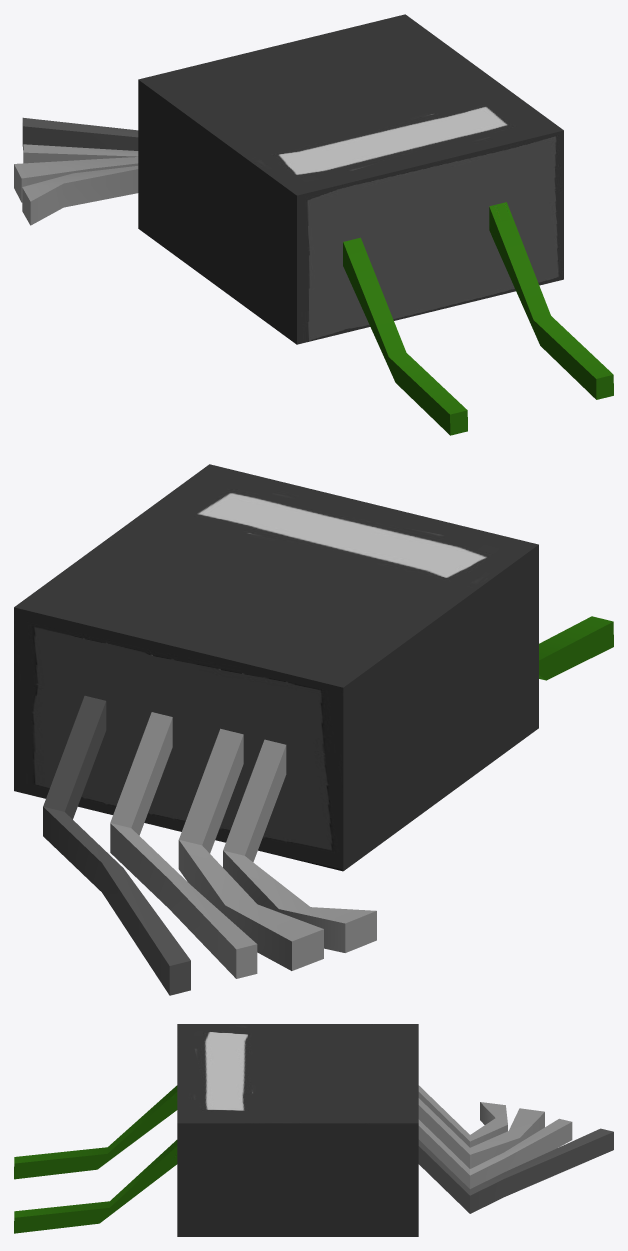
Rendered from Sensor.fbx.
3 renders of one model, top to bottom at view 1: azimuth 30°, elevation 25°; view 2: azimuth 150°, elevation 25°; view 3: azimuth 270°, elevation 25°, orthographic. The views are drawn at different scales.
Visible parts, largest first — view 1: Sensor; view 2: Sensor; view 3: Sensor.
Boxes of the visible parts, x1=… form: Sensor: x1=14, y1=14, x2=613, y2=435; Sensor: x1=14, y1=464, x2=613, y2=995; Sensor: x1=14, y1=1024, x2=613, y2=1236.
Bounding box in the file's own units: 204 × 101 × 416.
1 material, 1 textured.
